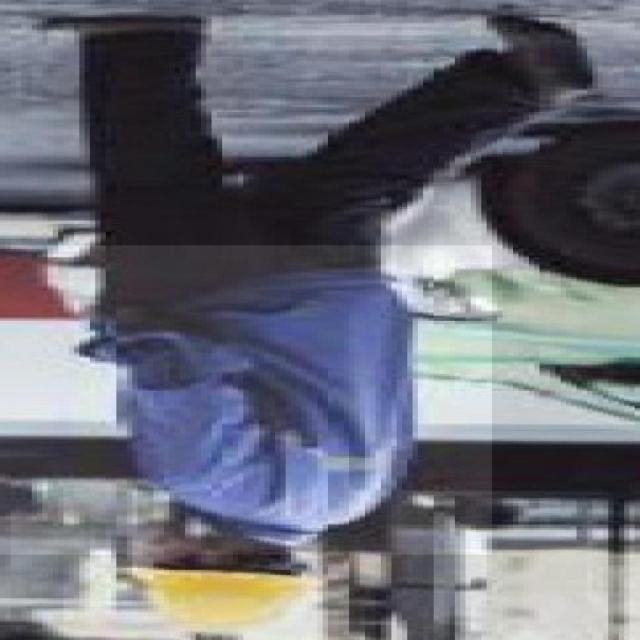Helmet: (0, 245, 492, 555), (63, 531, 375, 640)
